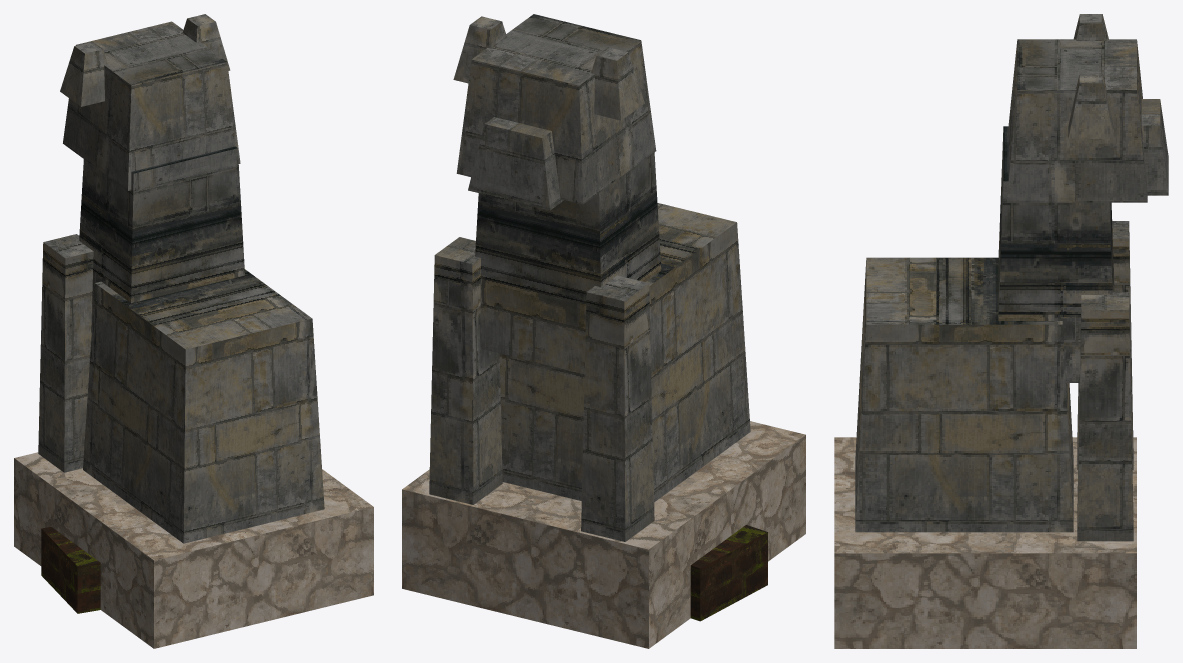
File: temple_statue_singha_01.glb
3 views of the same model, side by side, from view 1: azimuth 30°, elevation 25°; view 2: azimuth 150°, elevation 25°; view 3: azimuth 270°, elevation 25° (orthographic). The views are drawn at different scales.
Visible parts, largest first — view 1: temple_statue_singha_01; view 2: temple_statue_singha_01; view 3: temple_statue_singha_01.
Boxes of the visible parts, left/top/right/bottom form: temple_statue_singha_01: left=14, top=14, right=373, bottom=648; temple_statue_singha_01: left=402, top=14, right=805, bottom=648; temple_statue_singha_01: left=834, top=14, right=1168, bottom=648.
Bounding box in the file's own units: 0.8557 × 1.7 × 0.95.
3 materials, 3 textured.
